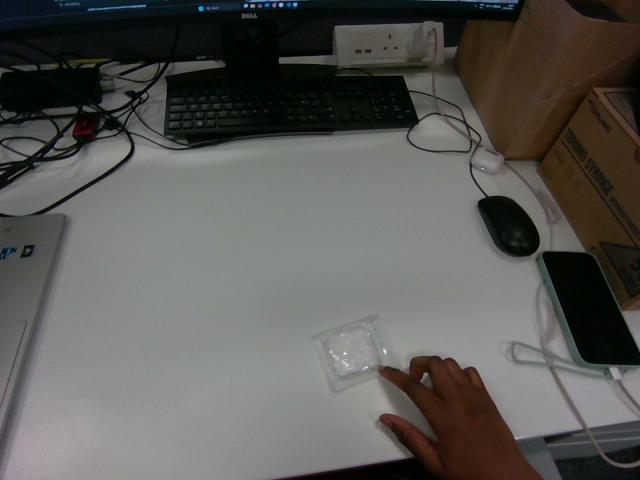gauze: (314, 315, 398, 390)
